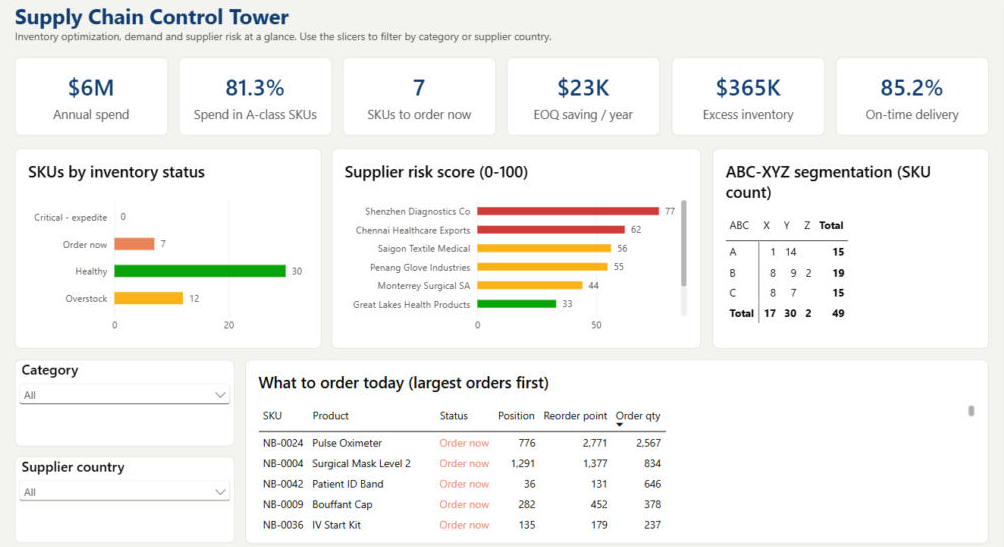

Layout of this report page (visuals, bound fields, positions):
{"tool":"powerbi","page":{"name":"Overview","canvas":[1280,720],"ordinal":0},"visuals":[{"type":"textbox","box":[20,8,1240,64],"z":1000},{"type":"card","fields":{"Values":["_Measures.Annual Spend Total"]},"box":[20,80,195,100],"z":2000},{"type":"card","fields":{"Values":["_Measures.A-Class Share of Spend"]},"box":[229,80,195,100],"z":3000},{"type":"card","fields":{"Values":["_Measures.SKUs to Order"]},"box":[438,80,195,100],"z":4000},{"type":"card","fields":{"Values":["_Measures.EOQ Annual Saving"]},"box":[647,80,195,100],"z":5000},{"type":"card","fields":{"Values":["_Measures.Excess Inventory Value"]},"box":[856,80,195,100],"z":6000},{"type":"card","fields":{"Values":["_Measures.On-Time Delivery %"]},"box":[1065,80,195,100],"z":7000},{"type":"clusteredBarChart","title":"SKUs by inventory status","fields":{"Category":["Status List.Status"],"Y":["_Measures.SKUs in Status"]},"box":[20,195,390,255],"z":8000},{"type":"clusteredBarChart","title":"Supplier risk score (0-100)","fields":{"Category":["suppliers.supplier_name"],"Y":["_Measures.Risk Score"]},"box":[424,195,470,255],"z":9000},{"type":"pivotTable","title":"ABC-XYZ segmentation (SKU count)","fields":{"Columns":["products.XYZ"],"Rows":["products.ABC"],"Values":["_Measures.SKU Count"]},"box":[908,195,352,255],"z":10000},{"type":"slicer","fields":{"Values":["products.category"]},"box":[20,464,280,110],"z":11000},{"type":"slicer","fields":{"Values":["suppliers.country"]},"box":[20,588,280,110],"z":12000},{"type":"tableEx","title":"What to order today (largest orders first)","fields":{"Values":["products.sku","products.product_name","_Measures.Inventory Status","products.Inventory Position","_Measures.Reorder Point","_Measures.Suggested Order Qty"]},"box":[314,464,946,234],"z":13000}]}

Visuals, with their boxes on the page's 1280x720 design canvas (x1, y1, x2, y2). These are canvas units, not pixel positions in the 1004x547 screenshot, which may show the page scaled, cropped or inside an application window:
textbox: locate(20, 8, 1260, 72)
card - _Measures.Annual Spend Total: locate(20, 80, 215, 180)
card - _Measures.A-Class Share of Spend: locate(229, 80, 424, 180)
card - _Measures.SKUs to Order: locate(438, 80, 633, 180)
card - _Measures.EOQ Annual Saving: locate(647, 80, 842, 180)
card - _Measures.Excess Inventory Value: locate(856, 80, 1051, 180)
card - _Measures.On-Time Delivery %: locate(1065, 80, 1260, 180)
"SKUs by inventory status" clusteredBarChart: locate(20, 195, 410, 450)
"Supplier risk score (0-100)" clusteredBarChart: locate(424, 195, 894, 450)
"ABC-XYZ segmentation (SKU count)" pivotTable: locate(908, 195, 1260, 450)
slicer - products.category: locate(20, 464, 300, 574)
slicer - suppliers.country: locate(20, 588, 300, 698)
"What to order today (largest orders first)" tableEx: locate(314, 464, 1260, 698)
